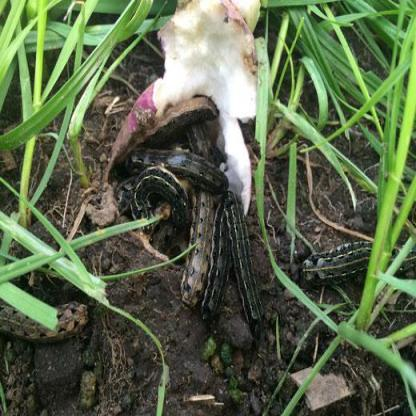armyworm: (220, 185, 268, 334), (123, 85, 221, 154), (118, 139, 230, 199), (300, 230, 386, 287), (183, 178, 218, 310), (132, 165, 198, 230)
